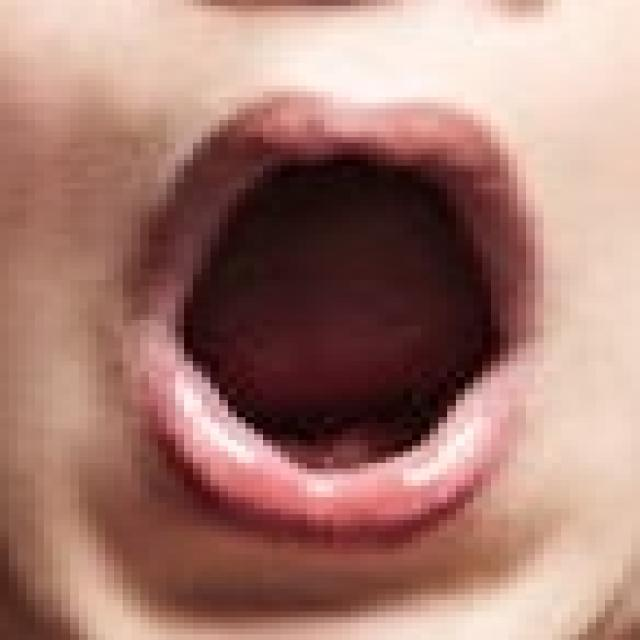open-mouth: (113, 86, 552, 543)
